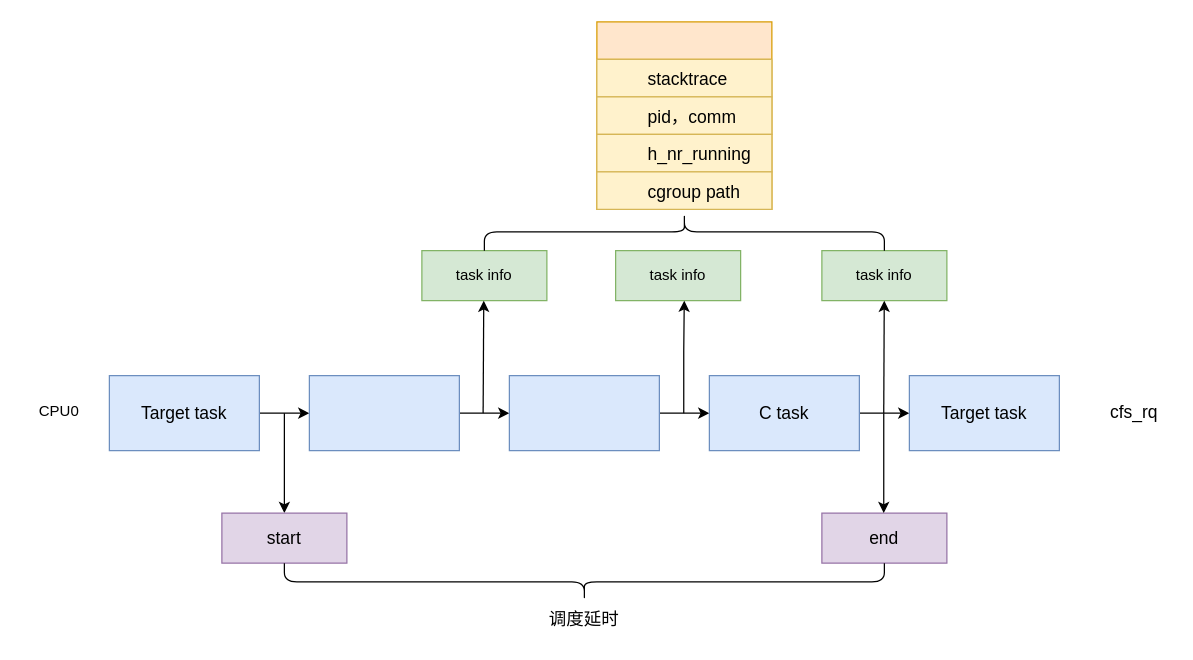
The diagram is 1193 pixels wide and 660 high, and some of its shapes have lost their labels. The box of each missing label's shape, as (x1, y1, x2, y2) in pixels:
A task: (308, 374, 459, 451)
B task: (508, 374, 659, 451)
record task info: (596, 21, 772, 209)
